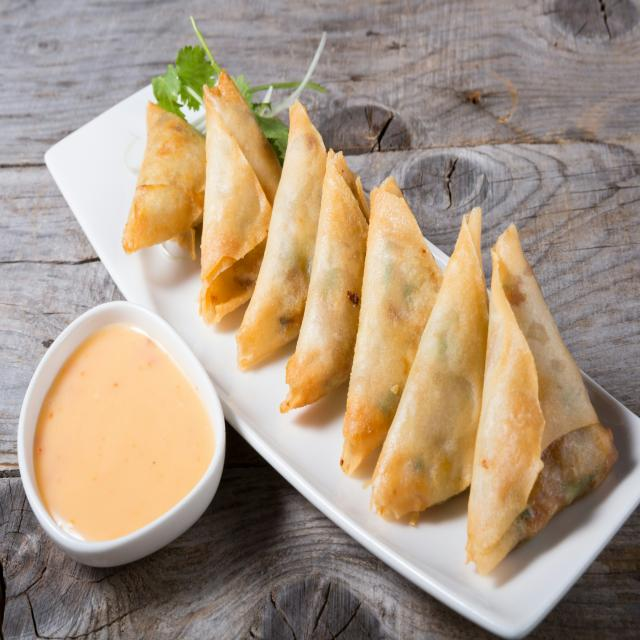SAMOSA: (466, 224, 618, 575), (371, 208, 488, 519), (340, 177, 443, 475), (236, 102, 327, 370), (283, 152, 367, 409), (199, 71, 282, 325), (122, 102, 206, 259), (316, 259, 319, 272)
